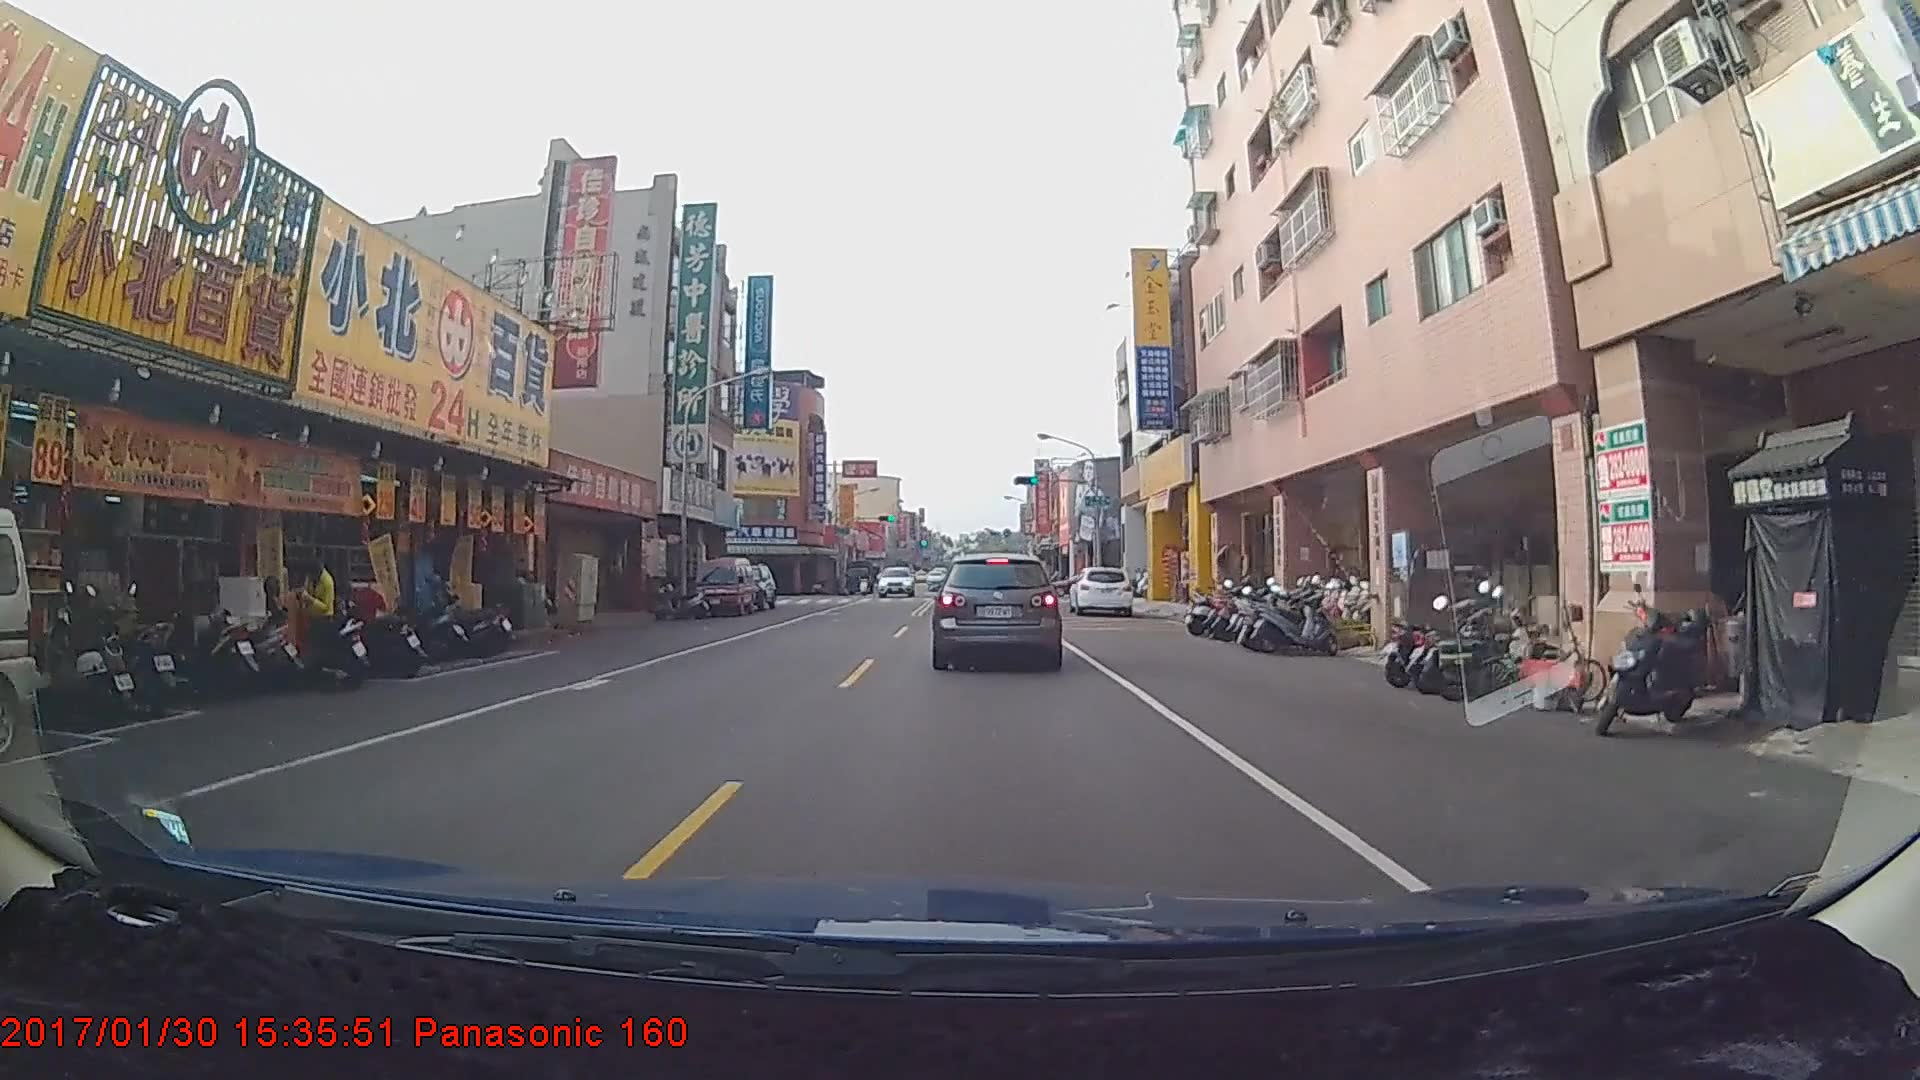pedestrian: (290, 550, 339, 659)
vehicle: (934, 549, 1063, 669), (694, 561, 754, 625), (1068, 566, 1133, 617), (873, 560, 917, 598)
